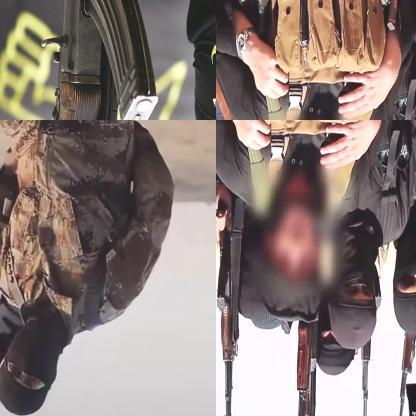rifle: (41, 0, 160, 119), (216, 251, 241, 415), (290, 317, 322, 415), (392, 327, 415, 415), (356, 339, 377, 415)
